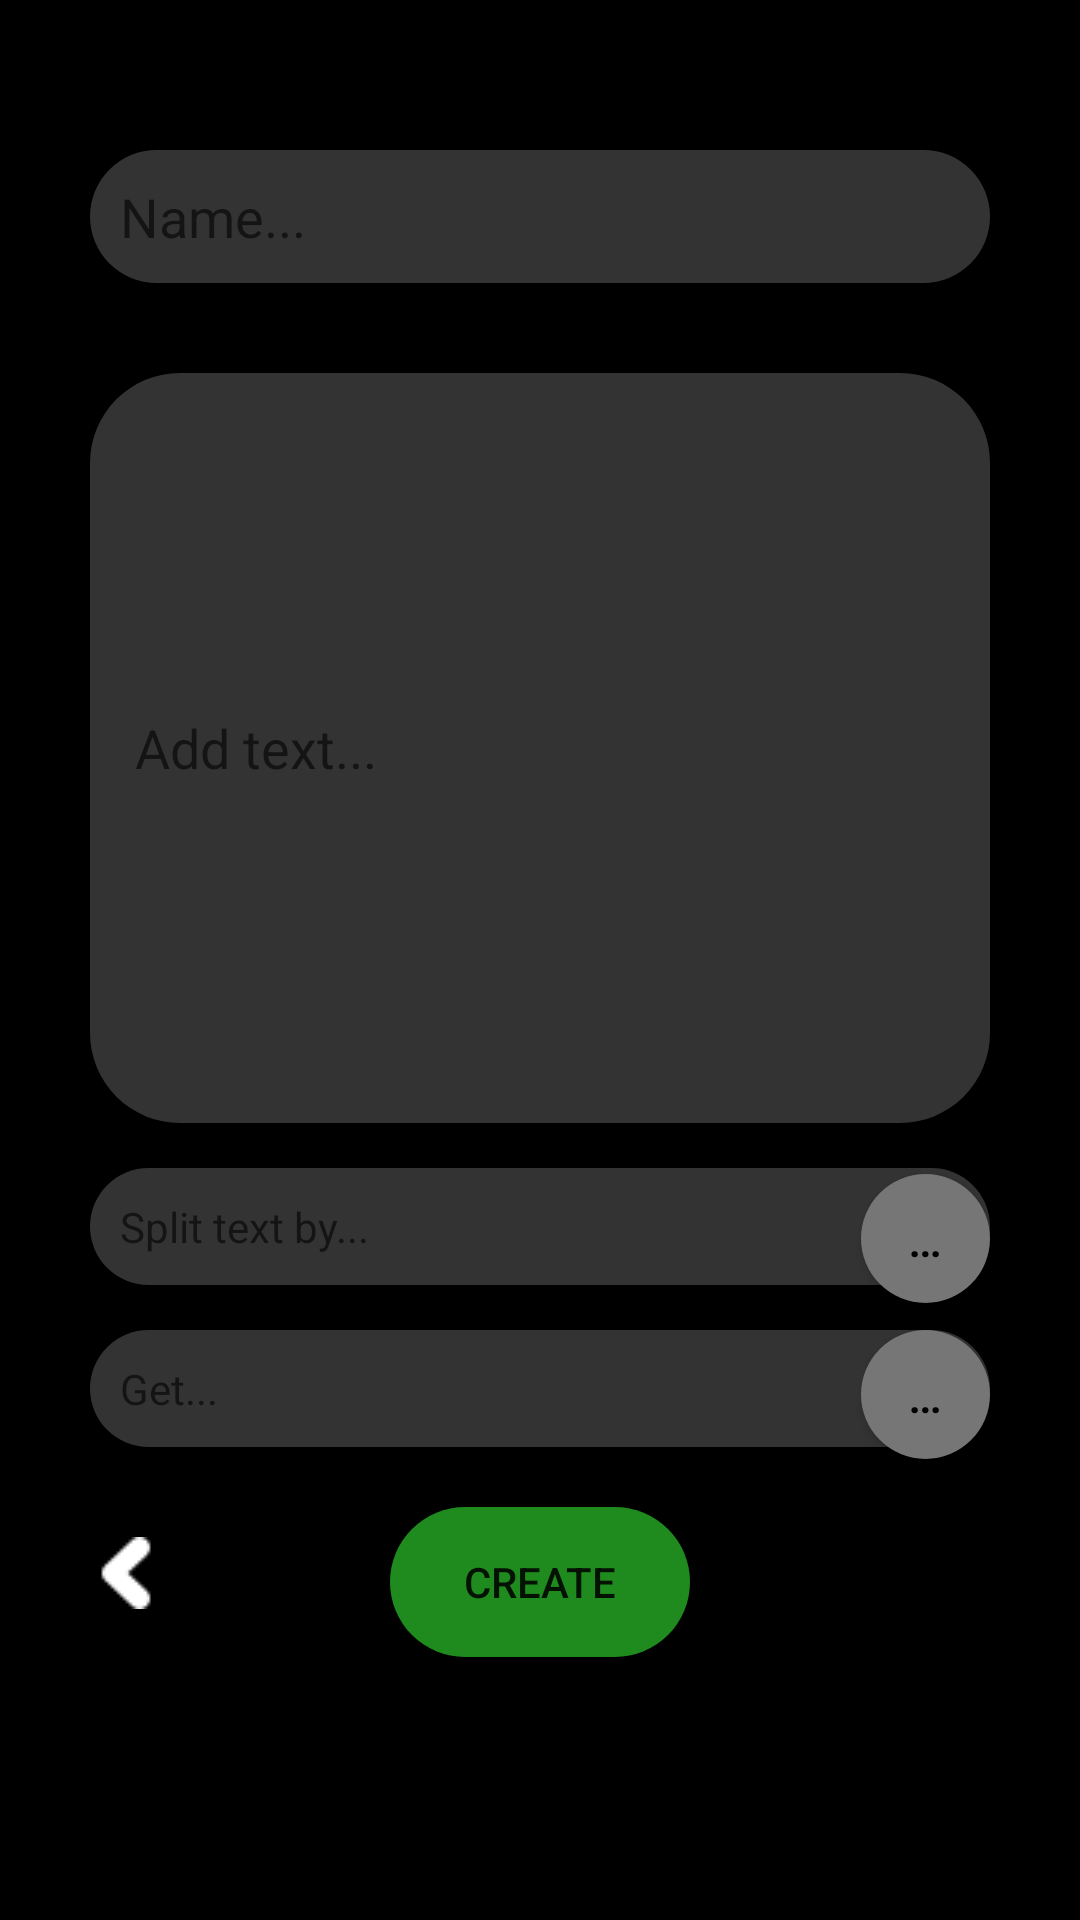

Locate icon controls on the screen. Image size 1080x1920, boxes as (x1, y1, x2, y2).
arrow: (101, 1537, 151, 1609)
